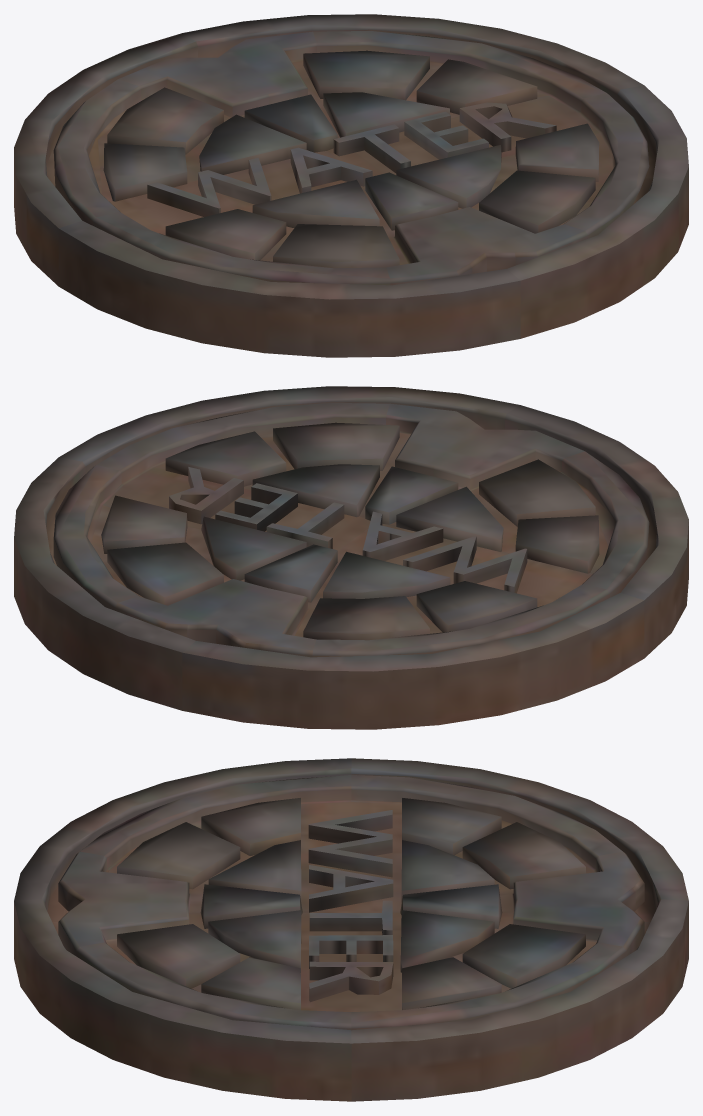
The model's file is manhole-cover.lite.88b556c8.glb.
3 renders of one model, top to bottom at view 1: azimuth 30°, elevation 25°; view 2: azimuth 150°, elevation 25°; view 3: azimuth 270°, elevation 25°, orthographic.
Visible parts, largest first — view 1: model; view 2: model; view 3: model.
Part boxes in pixels (<box>): model: <box>14,14,688,357</box>; model: <box>14,386,688,729</box>; model: <box>14,758,688,1101</box>.
Size of the model in its own units: 0.6908 by 0.0676 by 0.6908.
Materials: 1 (1 with a texture image).
